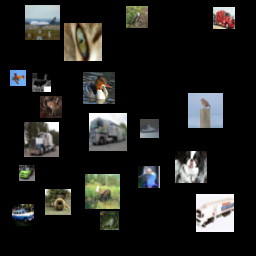airplane: (139, 32, 174, 67), (36, 36, 65, 65), (213, 97, 229, 113)
automobile: (178, 10, 216, 48), (153, 159, 185, 191), (99, 105, 125, 131)
bird: (215, 141, 241, 167), (50, 19, 66, 35)
cat: (96, 41, 125, 70)
deer: (160, 68, 195, 103), (197, 216, 232, 251), (18, 129, 50, 161)
dog: (57, 156, 83, 182), (110, 166, 132, 188), (21, 198, 37, 214)
frog: (139, 201, 161, 223), (88, 84, 107, 103)
